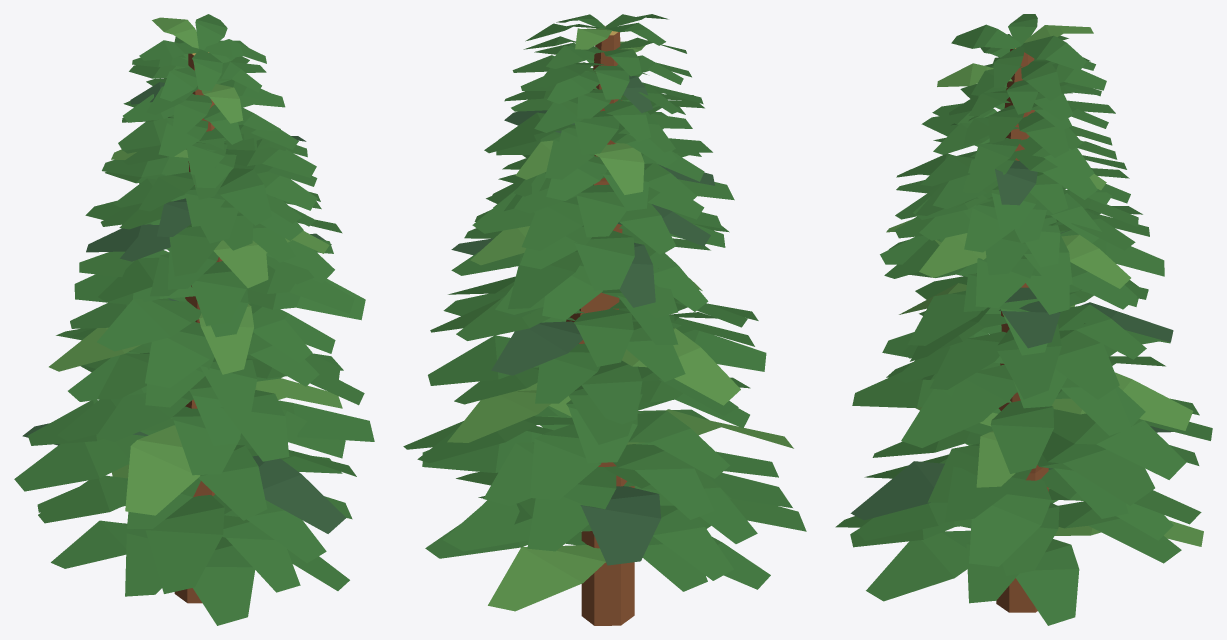
The model's file is leafyTree2.fbx.
3 views of the same model, side by side, from view 1: azimuth 30°, elevation 25°; view 2: azimuth 150°, elevation 25°; view 3: azimuth 270°, elevation 25° (orthographic). The views are drawn at different scales.
Parts seen in each view (by area): view 1: tree; view 2: tree; view 3: tree.
Boxes of the visible parts, x1,y1,x2,y2 form: tree: (14, 14, 374, 625); tree: (403, 14, 806, 625); tree: (835, 14, 1212, 625).
Size of the model in its own units: 311 by 545 by 325.
1 material, 1 textured.
